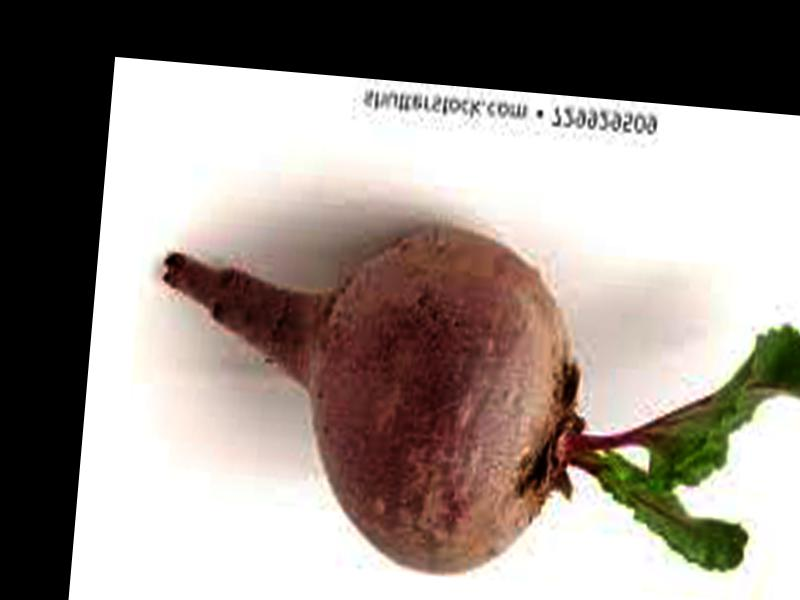Beet: (145, 207, 800, 600)
